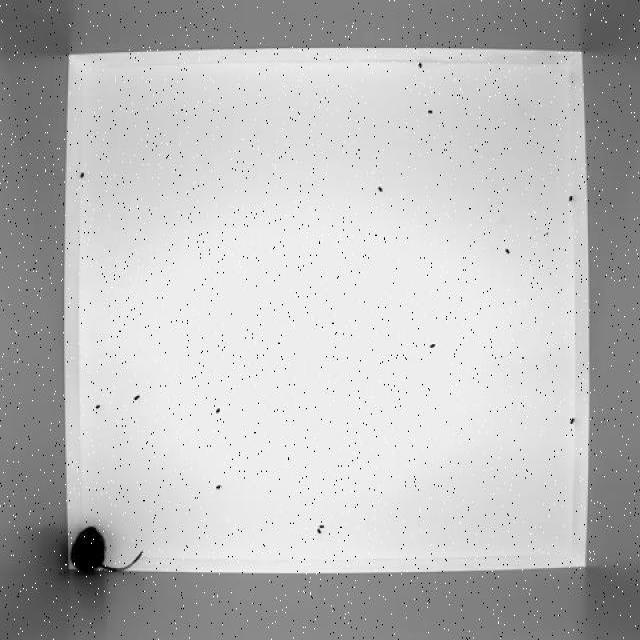rat: (66, 515, 156, 577)
